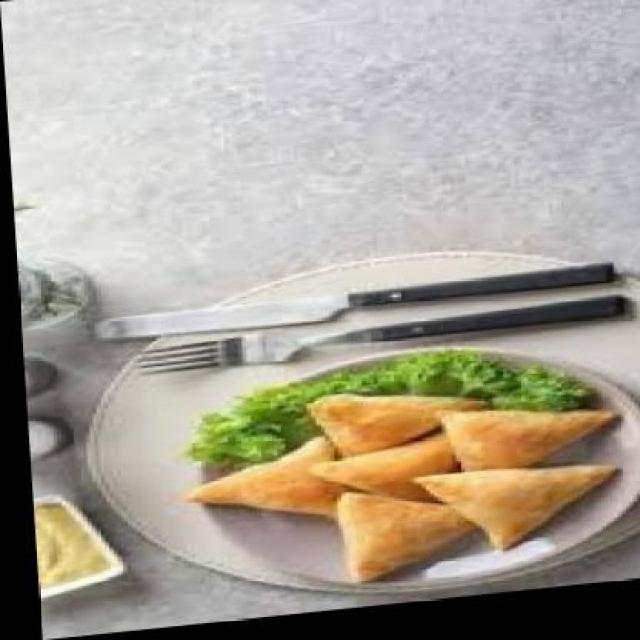samosa: (408, 468, 612, 568), (173, 438, 344, 534), (331, 488, 471, 589), (432, 406, 610, 485), (303, 389, 482, 465), (300, 442, 455, 522)
